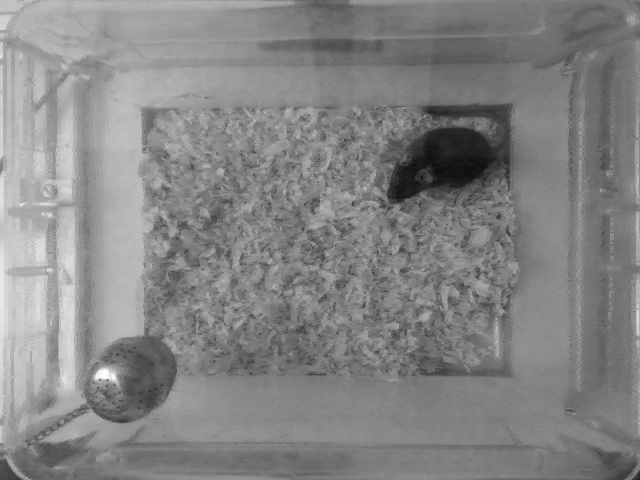mice: (381, 98, 514, 211)
